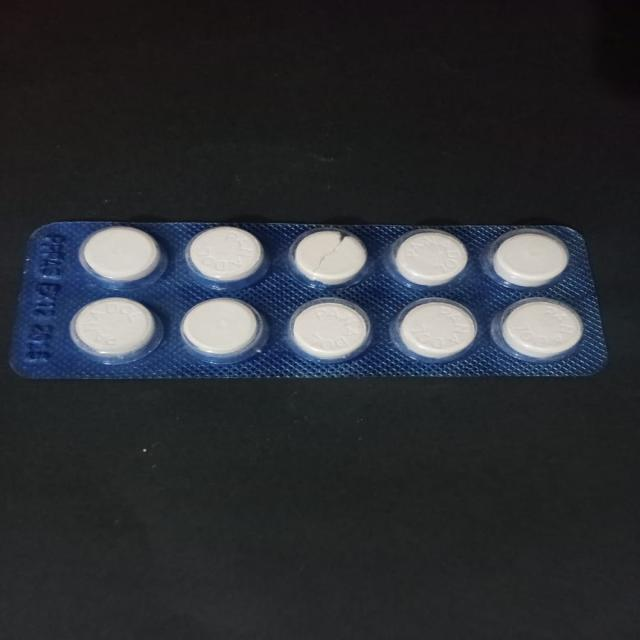defect: (285, 226, 372, 290)
